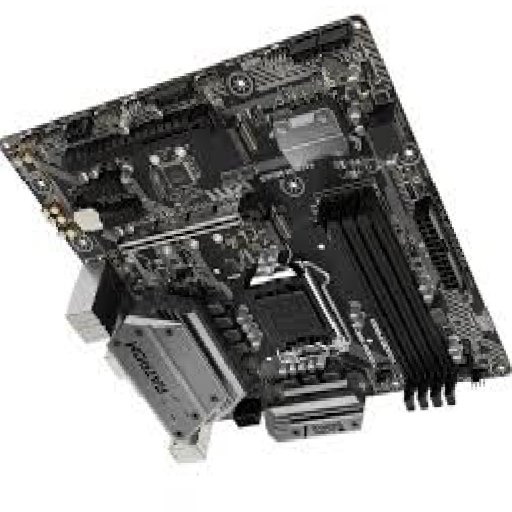CPU: (244, 252, 349, 353)
GPU: (64, 109, 220, 173), (119, 198, 268, 253)
MOTHERBOARD: (3, 15, 512, 416)
RAM: (319, 187, 456, 411)
SSD: (267, 217, 291, 248)
